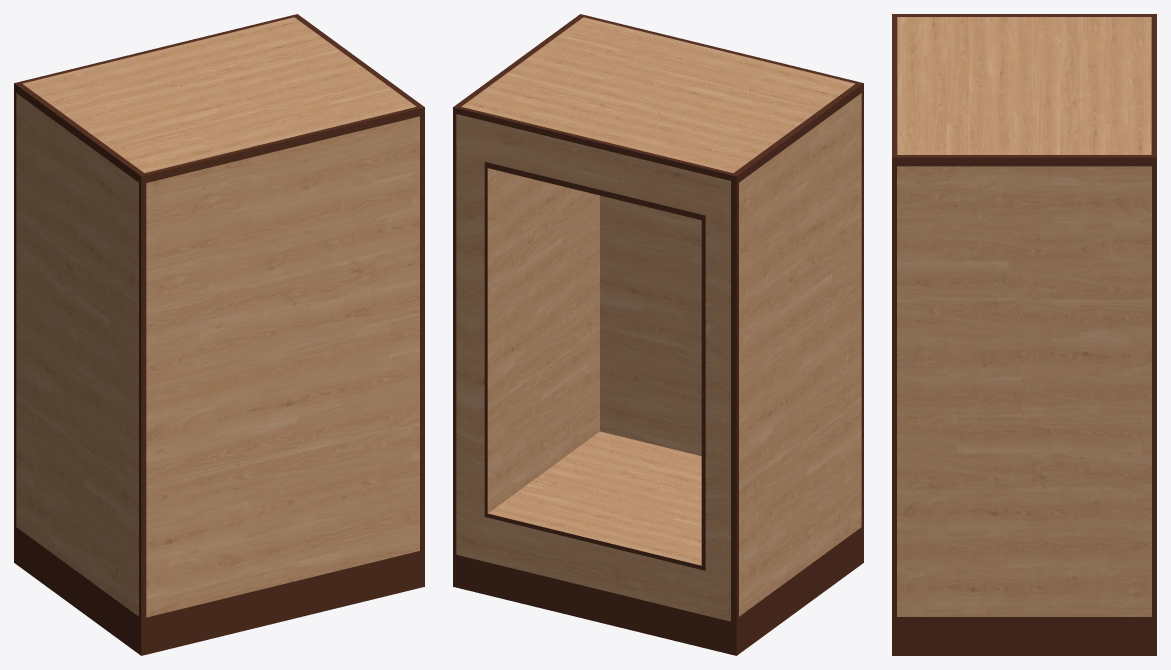
The model's file is Cabinet_Kitchen_Open_Body.fbx.
3 renders of one model, left to right at view 1: azimuth 30°, elevation 25°; view 2: azimuth 150°, elevation 25°; view 3: azimuth 270°, elevation 25°, orthographic. The views are drawn at different scales.
Parts seen in each view (by area): view 1: Kitchen_Cabinet_Body; view 2: Kitchen_Cabinet_Body; view 3: Kitchen_Cabinet_Body.
Part boxes in pixels (x1,y1,x2,y2): Kitchen_Cabinet_Body: [14, 14, 424, 655]; Kitchen_Cabinet_Body: [453, 14, 863, 655]; Kitchen_Cabinet_Body: [892, 14, 1156, 655].
Size of the model in its own units: 55.6 by 89.85 by 43.27.
